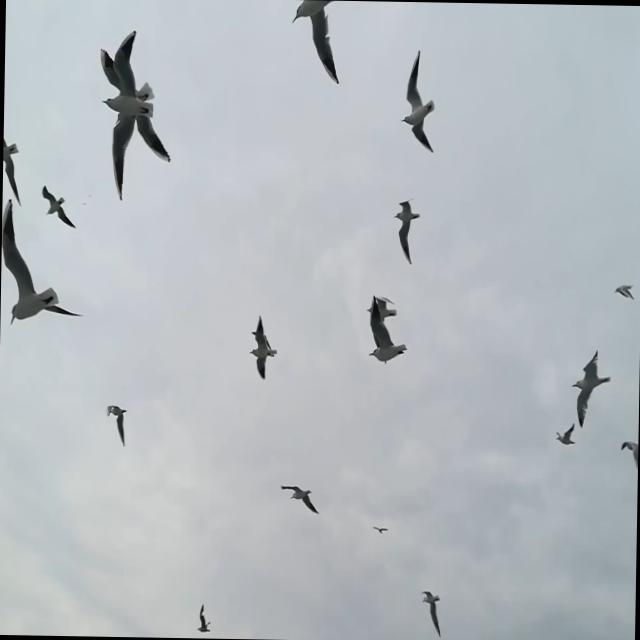bird: (0, 195, 86, 327), (99, 24, 157, 202), (98, 46, 174, 164), (286, 0, 344, 90), (398, 49, 437, 158), (569, 346, 612, 430), (366, 294, 409, 369), (392, 194, 424, 267), (245, 311, 277, 383), (2, 130, 26, 211), (39, 185, 78, 231), (279, 481, 320, 519), (101, 401, 129, 453), (418, 586, 443, 636), (366, 291, 399, 328), (553, 421, 575, 452), (195, 600, 213, 637), (613, 281, 634, 302), (370, 522, 389, 539)
